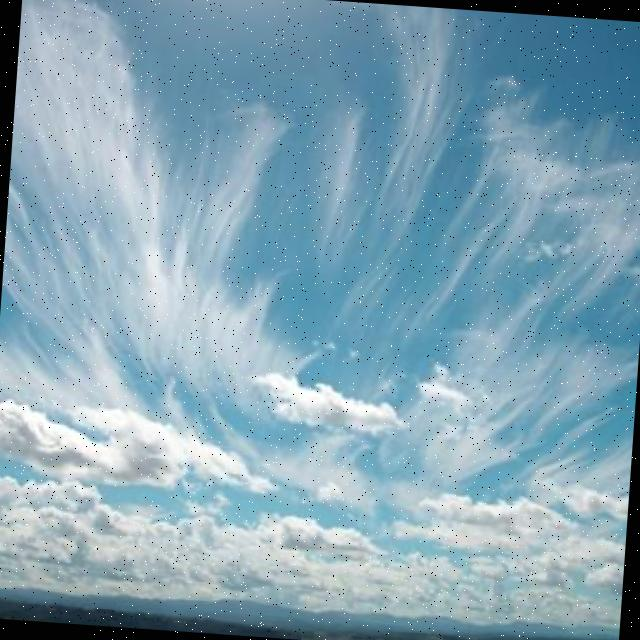Ci: (1, 23, 640, 589)
